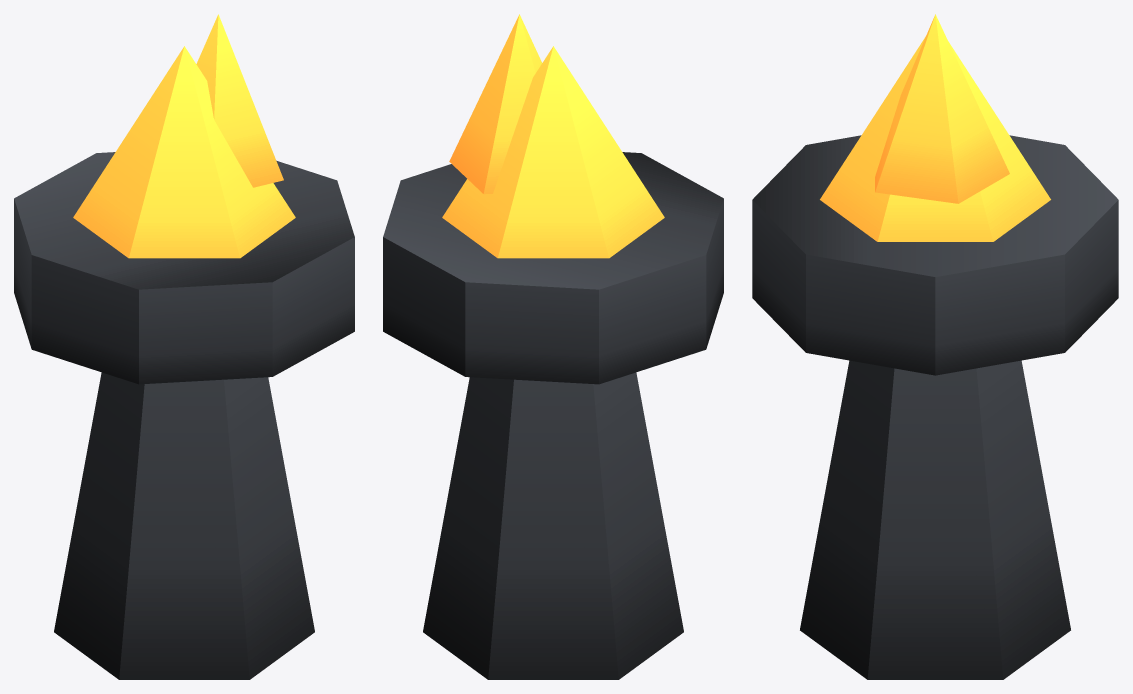
Rendered from brazier.glb.
The picture shows the model from 3 angles, left to right: view 1: azimuth 30°, elevation 25°; view 2: azimuth 150°, elevation 25°; view 3: azimuth 270°, elevation 25°; orthographic projection. The views are drawn at different scales.
Parts seen in each view (by area): view 1: brazier; view 2: brazier; view 3: brazier.
Boxes of the visible parts, x1=… form: brazier: x1=14, y1=14, x2=354, y2=679; brazier: x1=383, y1=14, x2=723, y2=679; brazier: x1=752, y1=14, x2=1118, y2=679.
Size of the model in its own units: 0.54 by 1.03 by 0.54.
Materials: 1 (1 with a texture image).
